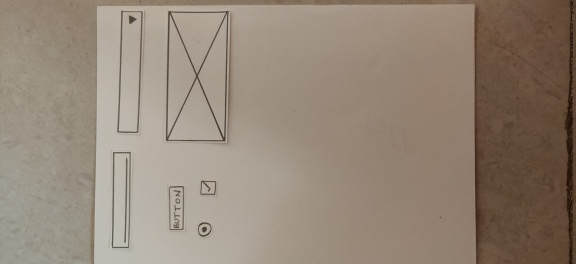button: (167, 184, 186, 233)
checkbox: (198, 179, 218, 197)
dropdown: (117, 9, 145, 135)
img: (163, 9, 230, 146)
radio: (197, 221, 213, 238)
text: (110, 150, 134, 250)
